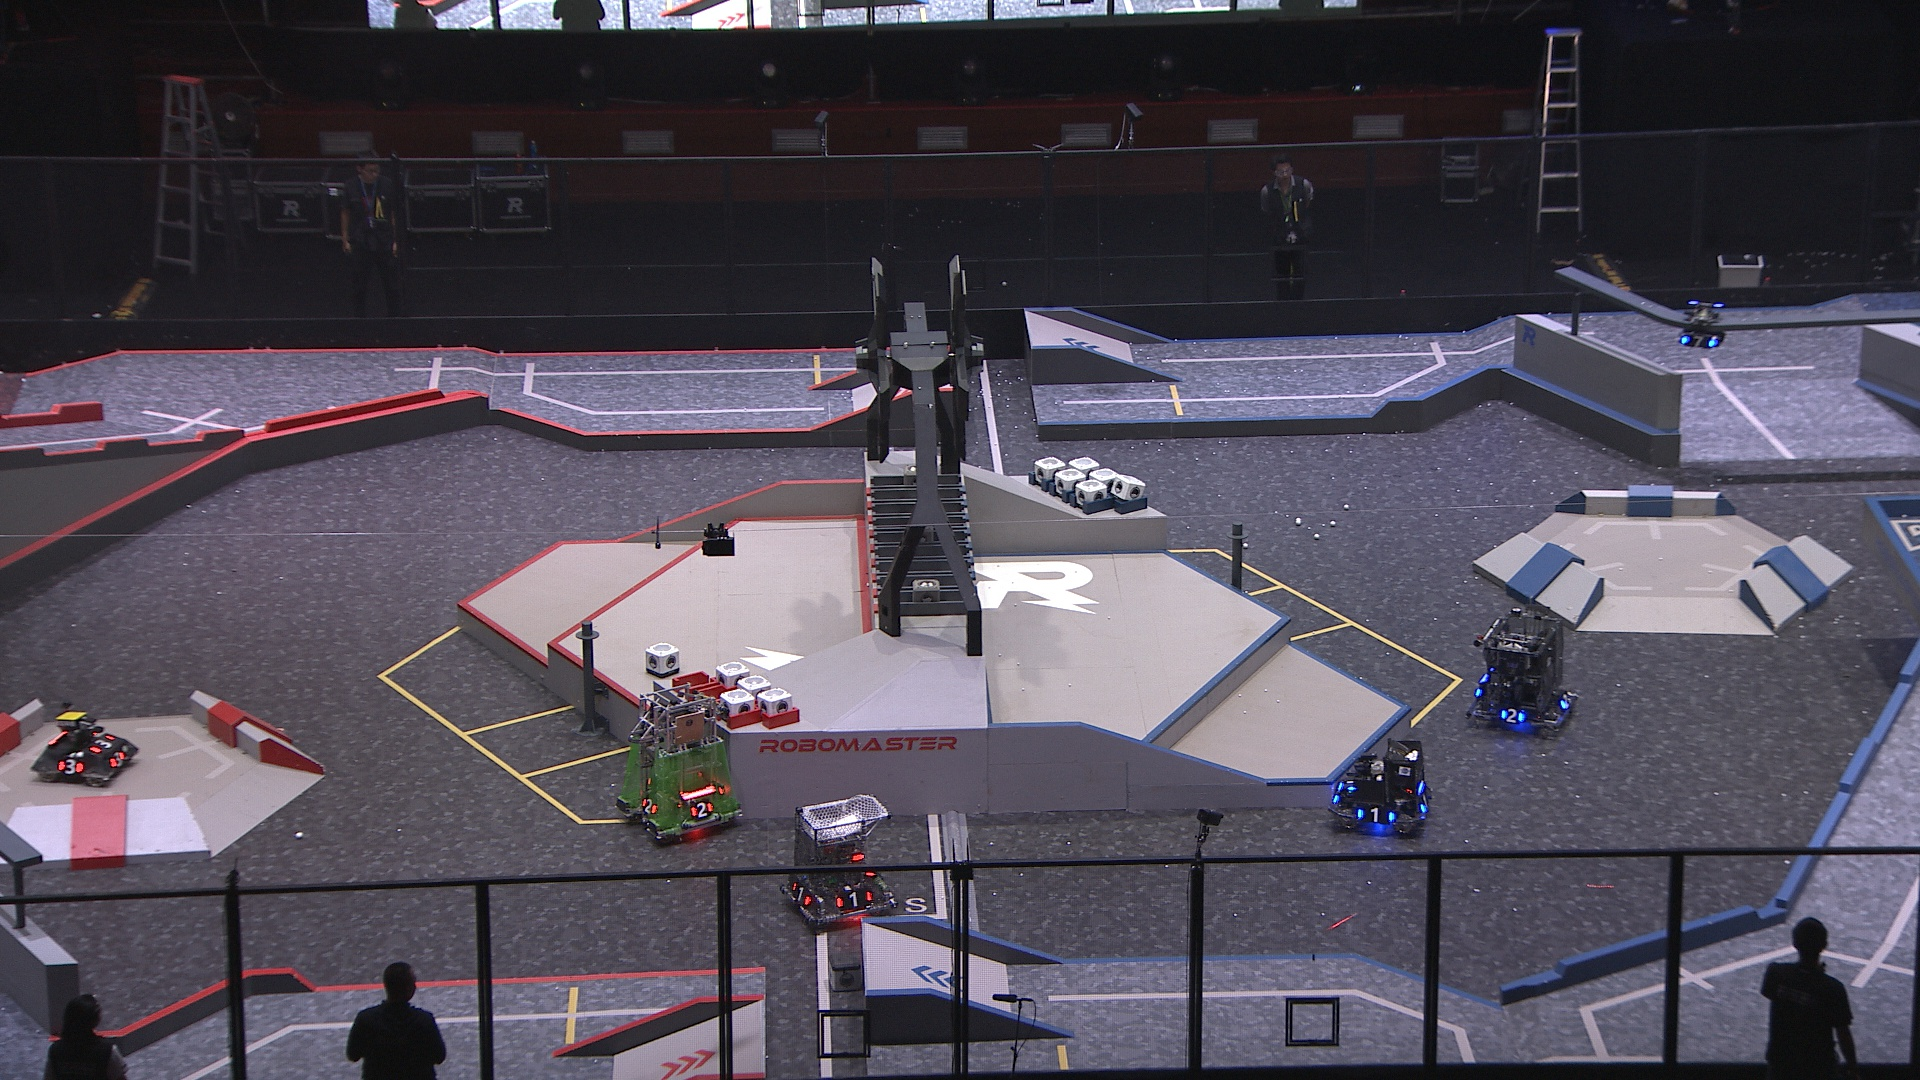armor: (835, 889, 874, 910), (1356, 807, 1396, 823), (55, 756, 86, 777), (793, 878, 814, 907), (1681, 335, 1718, 351), (90, 735, 115, 756), (1501, 705, 1524, 727), (692, 799, 713, 820), (641, 796, 659, 816), (107, 752, 125, 770), (1418, 794, 1432, 816), (1342, 778, 1357, 794), (1560, 692, 1572, 711)
car: (615, 684, 742, 845), (775, 796, 898, 928), (1465, 607, 1577, 742), (29, 699, 142, 787), (1331, 741, 1433, 837)
watcher: (1679, 301, 1730, 353)
